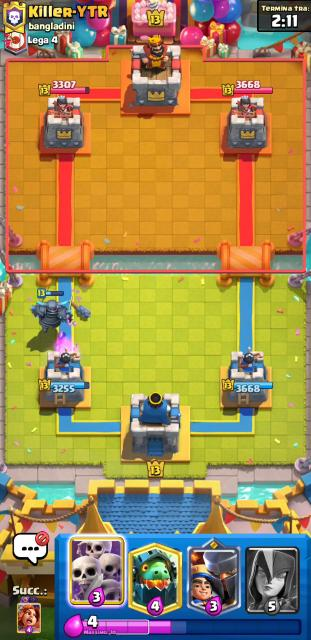ally_melee: (31, 288, 73, 332)
